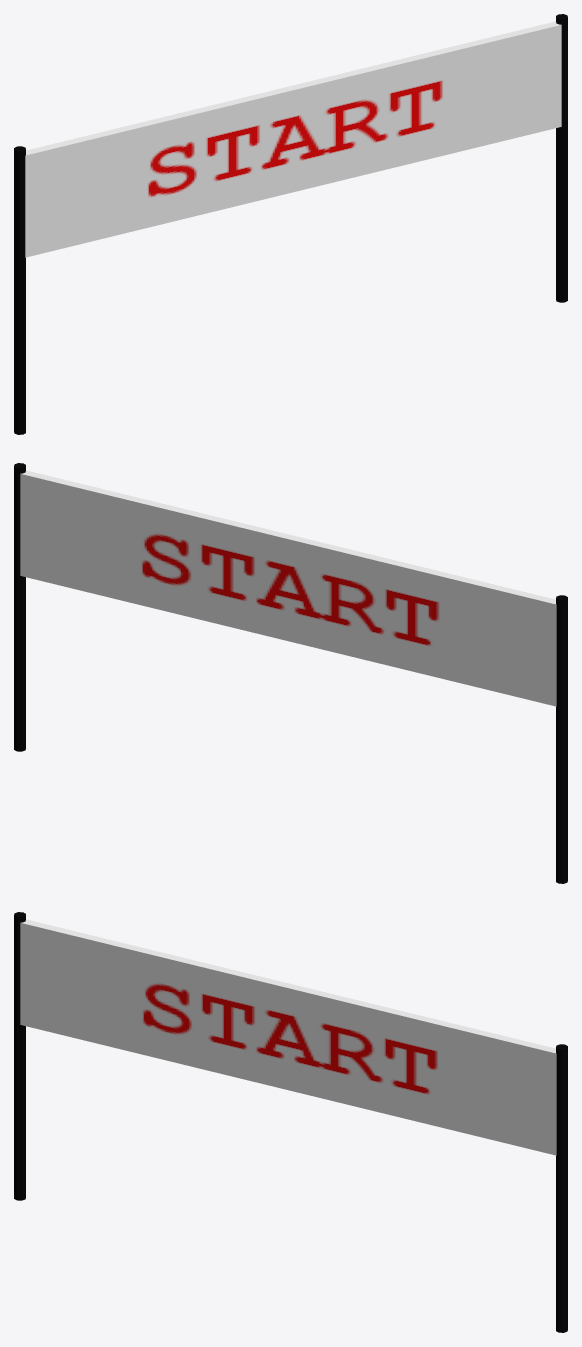
The model's file is start-banner.glb.
The picture shows the model from 3 angles, top to bottom: view 1: azimuth 30°, elevation 25°; view 2: azimuth 150°, elevation 25°; view 3: azimuth 330°, elevation 25°; orthographic projection.
Visible parts, largest first — view 1: Cube, Cylinder.001, Cylinder; view 2: Cube, Cylinder.001, Cylinder; view 3: Cube, Cylinder, Cylinder.001.
Part boxes in pixels (x1,y1,x2,y2): Cube: (25,21,561,257); Cylinder.001: (14,146,25,434); Cylinder: (556,14,567,302); Cube: (20,470,556,706); Cylinder.001: (556,595,567,883); Cylinder: (14,463,25,751); Cube: (20,919,556,1155); Cylinder: (556,1044,567,1332); Cylinder.001: (14,912,25,1200).
Bounding box in the file's own units: 10.2 × 5 × 0.2.
Materials: 2 (1 with a texture image).
